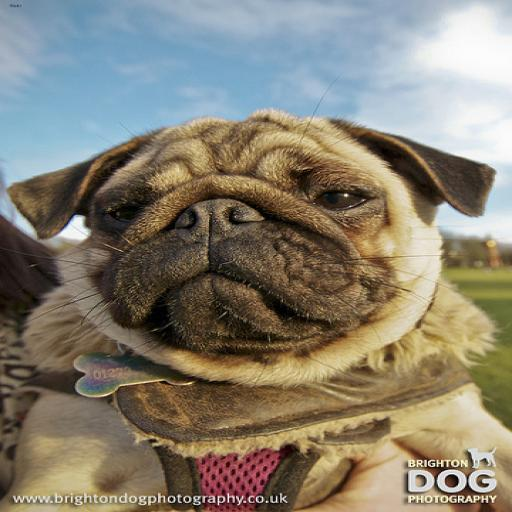dog_face: (7, 111, 498, 379)
